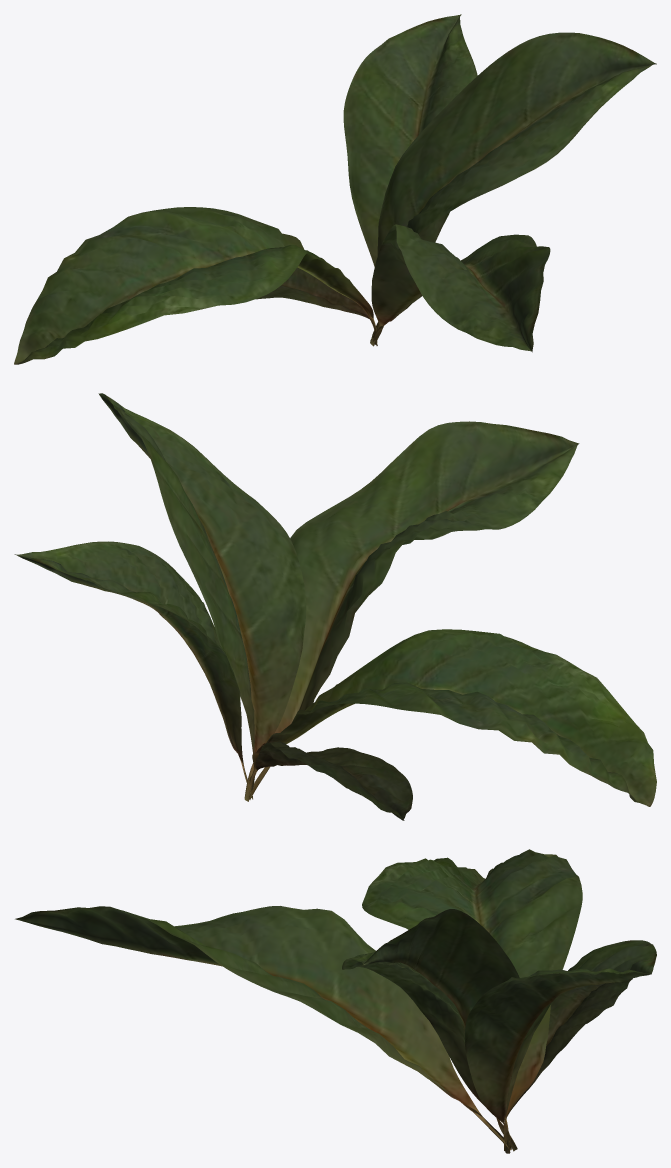
Rendered from anthurium_botany_01_c.gltf.
3 renders of one model, top to bottom at view 1: azimuth 30°, elevation 25°; view 2: azimuth 150°, elevation 25°; view 3: azimuth 270°, elevation 25°, orthographic. The views are drawn at different scales.
Visible parts, largest first — view 1: anthurium_botany_05_e; view 2: anthurium_botany_05_e; view 3: anthurium_botany_05_e.
Boxes of the visible parts, x1,y1,x2,y2 form: anthurium_botany_05_e: (14, 14, 656, 364); anthurium_botany_05_e: (14, 393, 656, 820); anthurium_botany_05_e: (15, 849, 656, 1153).
Size of the model in its own units: 0.3199 by 0.1586 by 0.2901.
Materials: 1 (1 with a texture image).
